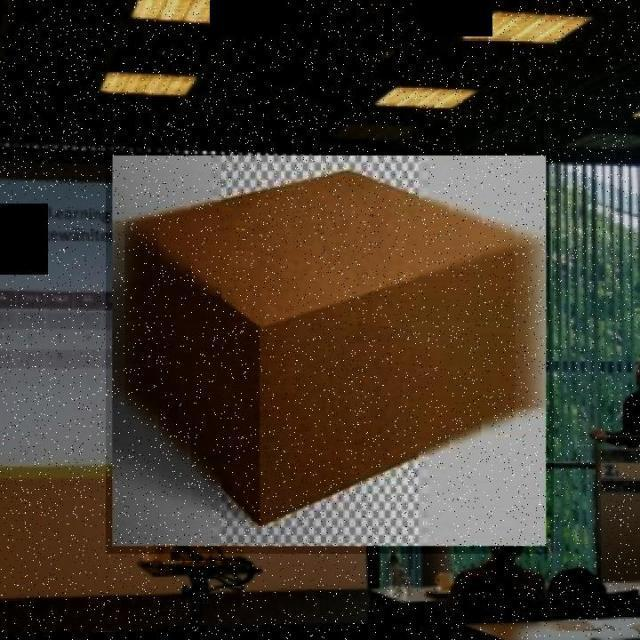box: (106, 149, 554, 554)
